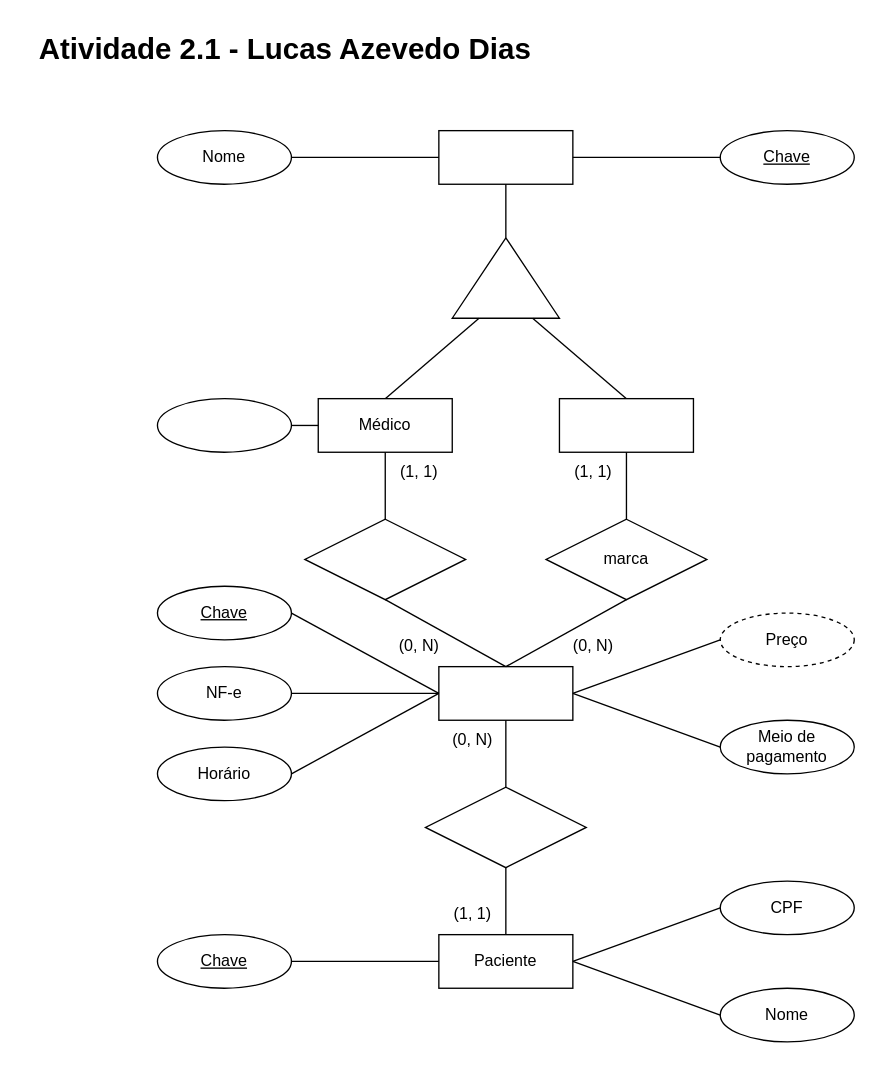
Image size: 878x1065. Some labels were removed from this diagram. Each missing label, with the centre of its shape:
"atende" goes at point 385,559.
"compra" goes at point 505,827.
"CRM" goes at point 223,424.
"Exame" goes at point 505,692.
"Funcionário" goes at point 505,156.
"Secretário" goes at point 625,424.
